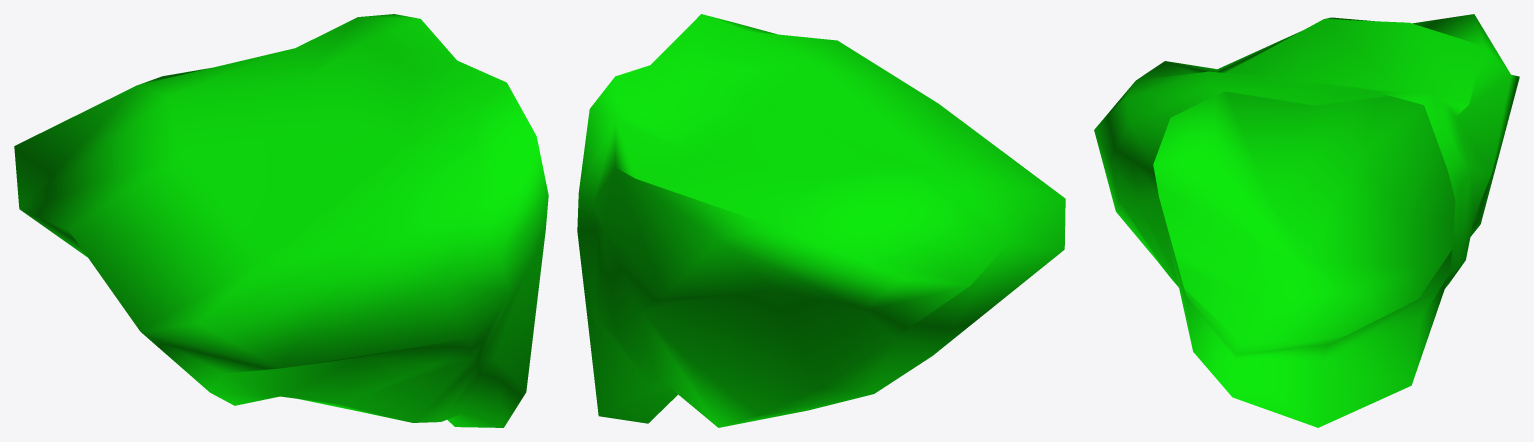
Rendered from SmallWallAttachment04_mesh.fbx.
3 views of the same model, side by side, from view 1: azimuth 30°, elevation 25°; view 2: azimuth 150°, elevation 25°; view 3: azimuth 270°, elevation 25° (orthographic). The views are drawn at different scales.
Parts seen in each view (by area): view 1: Small_wallattachment04_model; view 2: Small_wallattachment04_model; view 3: Small_wallattachment04_model.
Part boxes in pixels (x1=…): Small_wallattachment04_model: x1=14, y1=14, x2=548, y2=427; Small_wallattachment04_model: x1=577, y1=14, x2=1065, y2=427; Small_wallattachment04_model: x1=1094, y1=14, x2=1519, y2=427.
Bounding box in the file's own units: 22.19 × 21.19 × 24.34.
